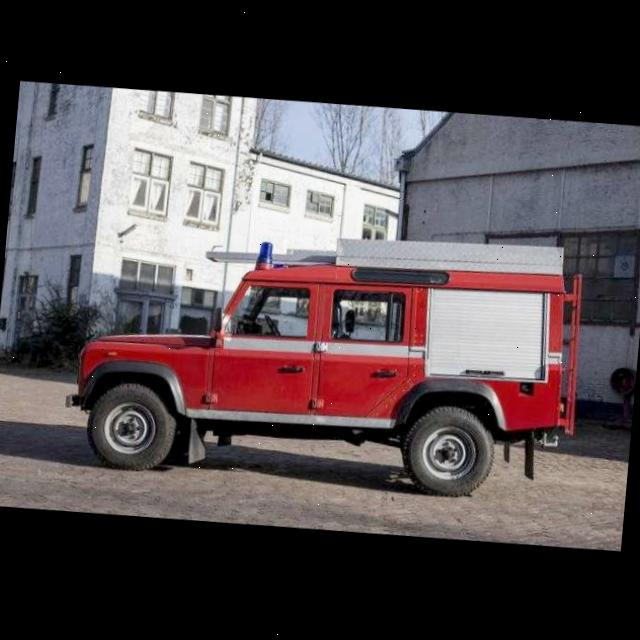emergency: (60, 206, 590, 511)
